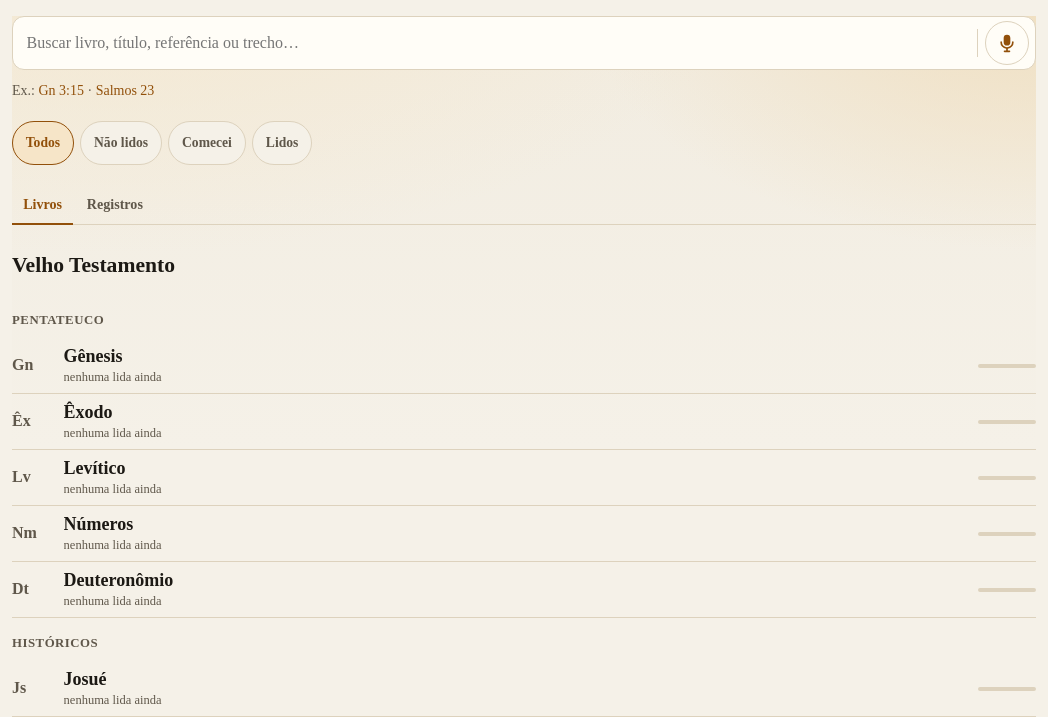
Explorar — ditado no campo de referência › falha do microfone aparece NA TELA, abaixo da dica
Click the button with class "ditar-botao" at (1007, 43), box [985,21,1029,65]
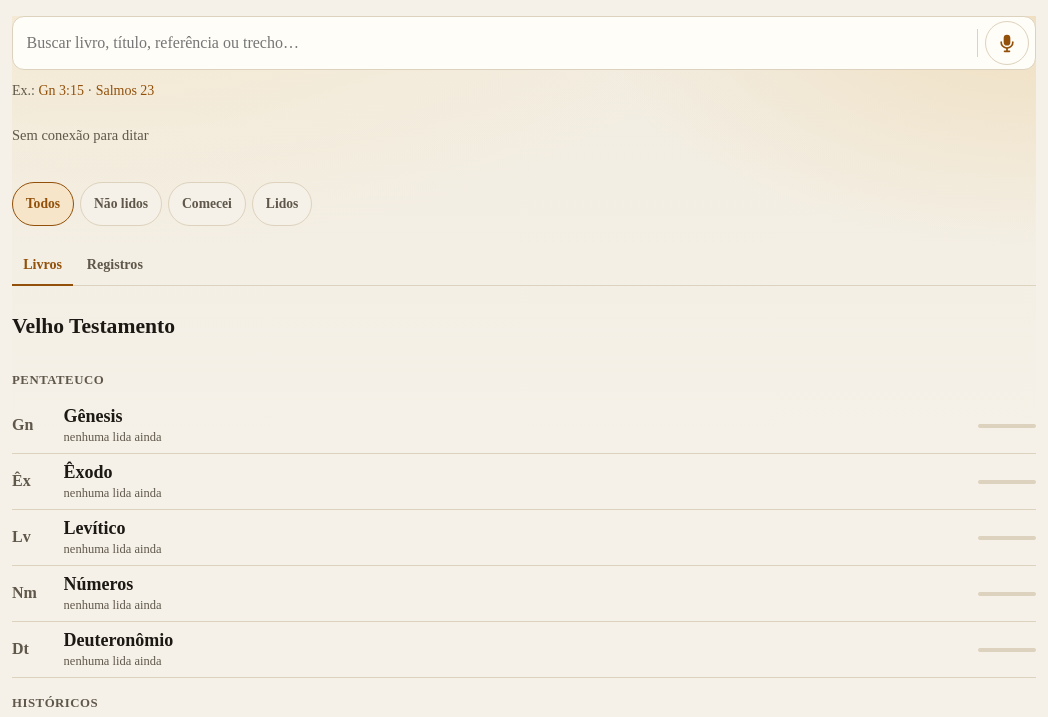
Result: the message "Sem conexão para ditar" is shown at [12,127,148,143]
